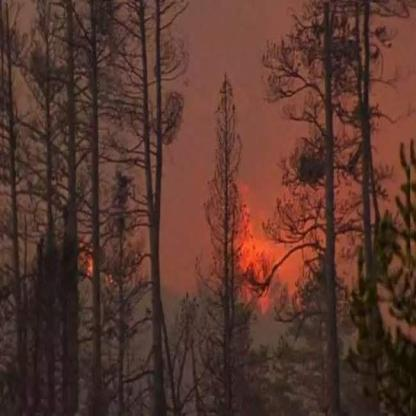fire: (232, 181, 280, 311), (78, 230, 94, 280)
